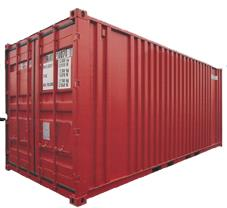container_door: (3, 19, 89, 183)
